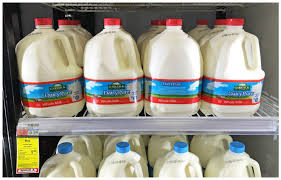milk: (17, 19, 83, 115), (83, 21, 144, 116), (207, 19, 264, 114), (147, 23, 203, 114), (208, 143, 264, 180), (150, 144, 205, 177), (99, 142, 147, 177), (42, 145, 96, 176), (58, 21, 84, 46)
